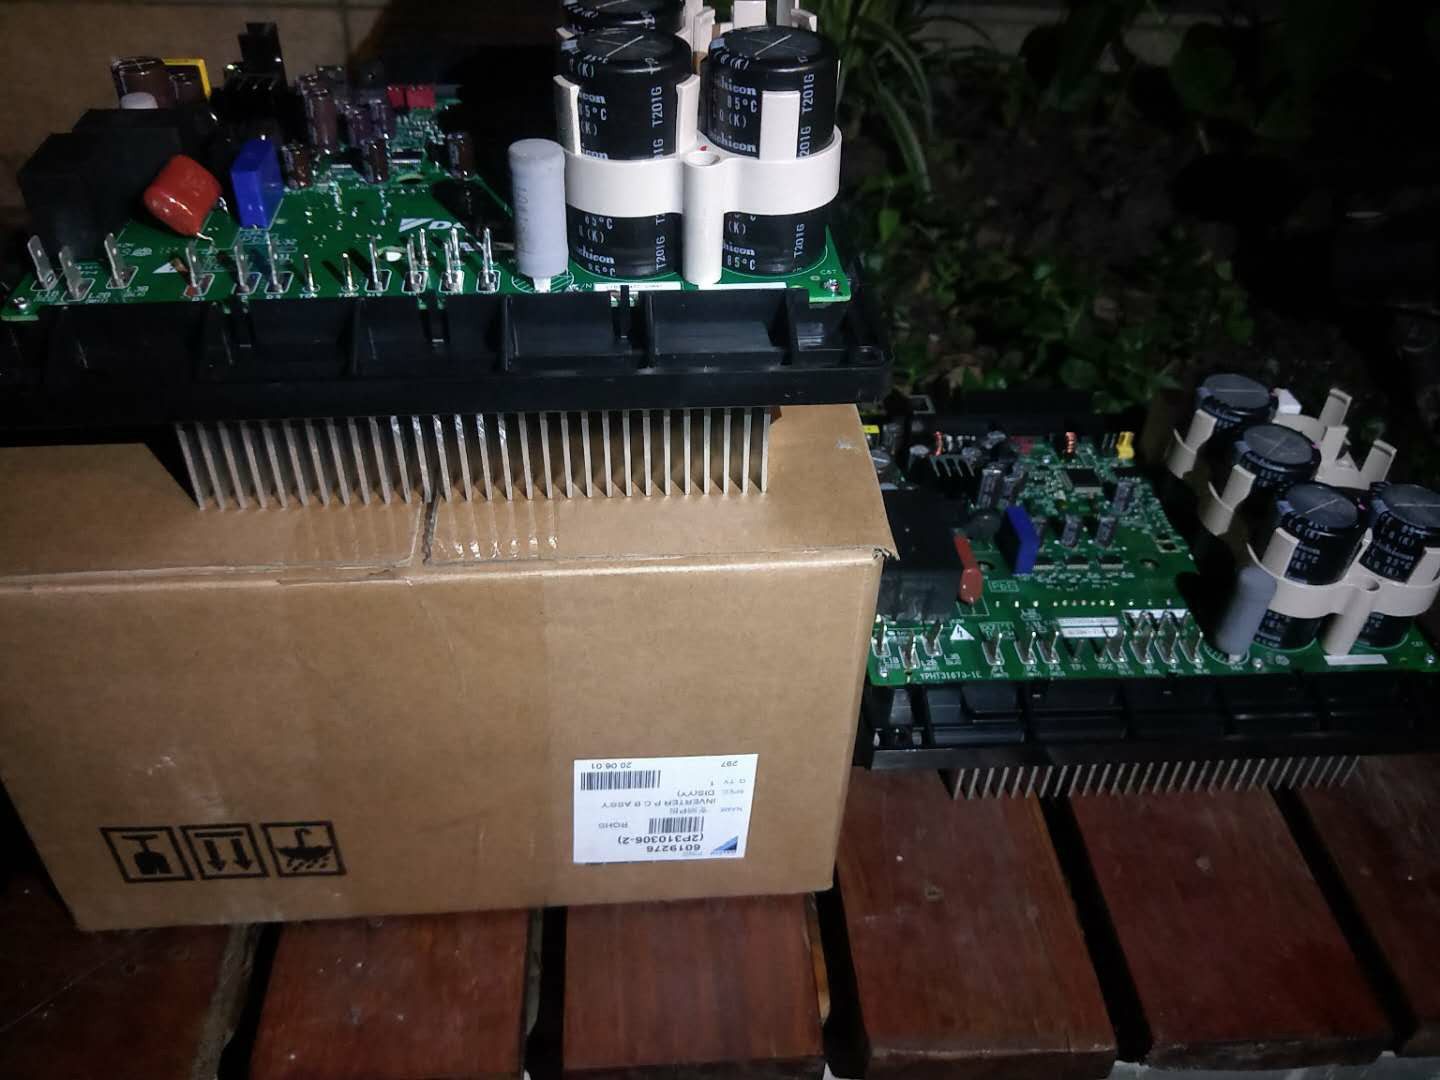PCB: (2, 1, 856, 324), (859, 369, 1437, 686)
